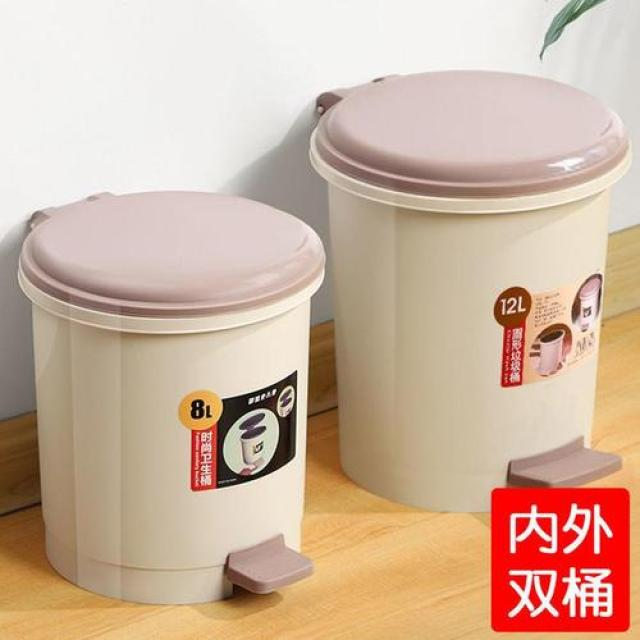dustbin: (305, 64, 631, 519), (17, 186, 329, 608)
